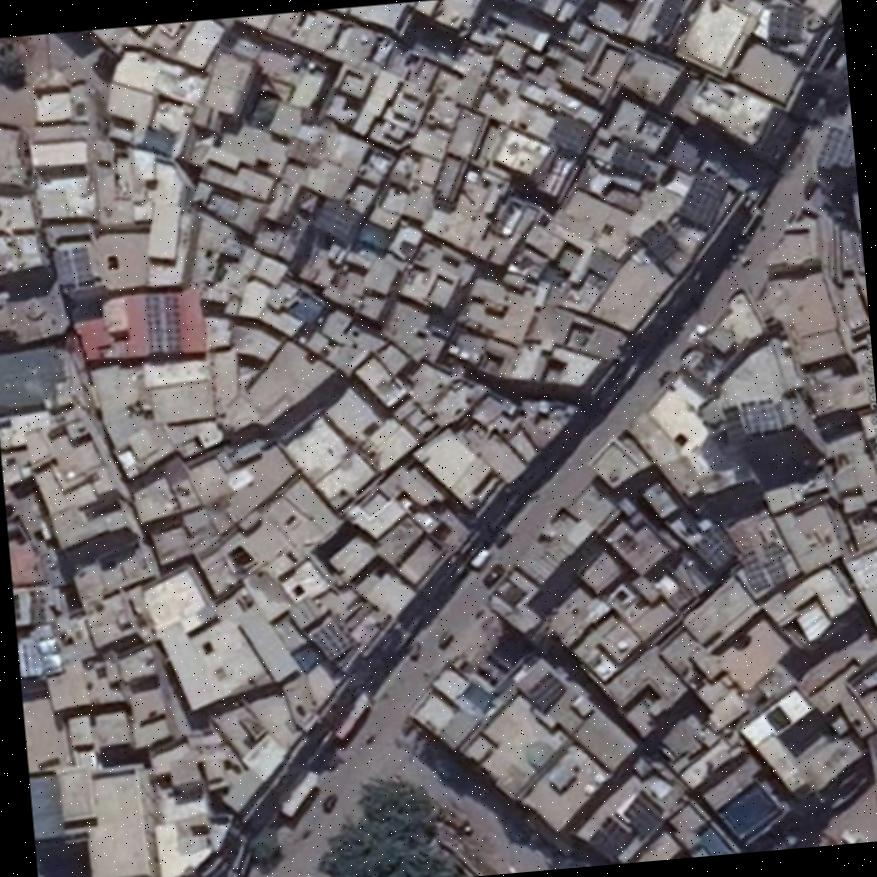Solarpanel: (675, 169, 726, 225), (142, 295, 180, 354), (307, 619, 356, 658), (690, 530, 736, 569), (638, 220, 681, 261), (549, 111, 593, 151), (813, 124, 854, 165), (54, 245, 94, 285), (766, 2, 803, 39), (528, 672, 562, 711), (740, 398, 781, 430), (739, 548, 766, 592), (652, 0, 686, 34), (760, 541, 786, 582)
